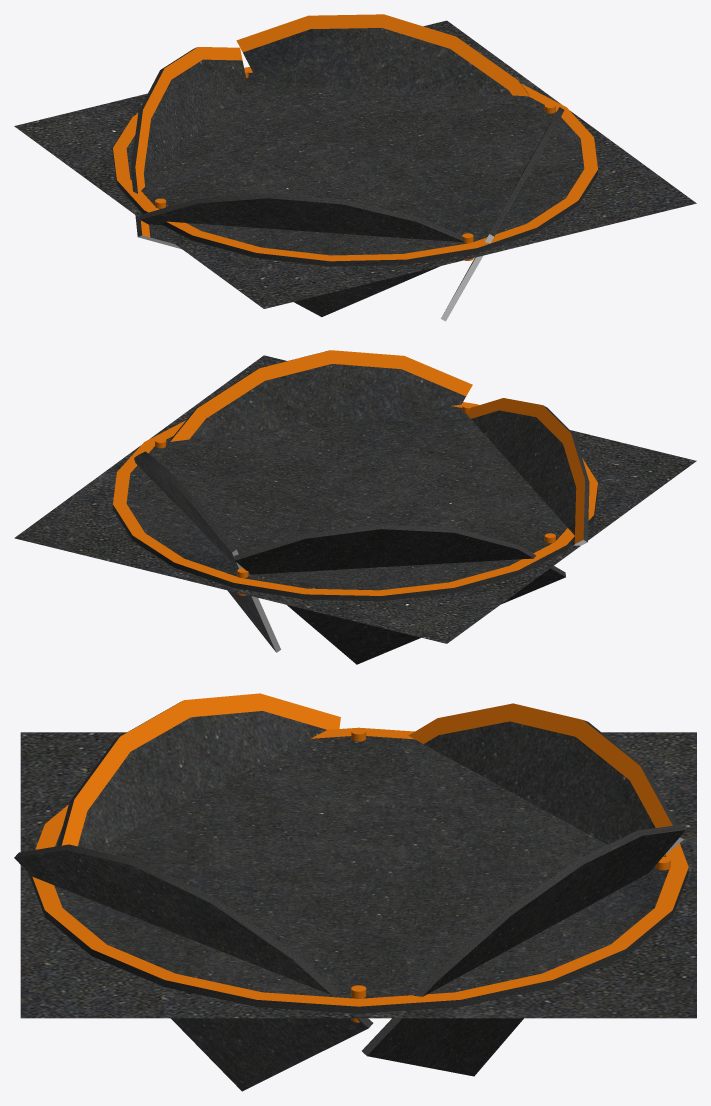
The model's file is wana cover.fbx.
The picture shows the model from 3 angles, top to bottom: view 1: azimuth 30°, elevation 25°; view 2: azimuth 150°, elevation 25°; view 3: azimuth 270°, elevation 25°; orthographic projection. The views are drawn at different scales.
Visible parts, largest first — view 1: cover, hole_plate, borken_cover4, borken_cover3, borken_cover1, borken_cover2; view 2: cover, hole_plate, borken_cover2, borken_cover1, borken_cover3, borken_cover4; view 3: cover, hole_plate, borken_cover2, borken_cover3, borken_cover1, borken_cover4.
Part boxes in pixels (box(x1,y1,x2,y2)): cover: box(113, 67, 597, 266); hole_plate: box(14, 20, 696, 308); borken_cover4: box(236, 14, 529, 96); borken_cover3: box(140, 193, 463, 316); borken_cover1: box(130, 47, 246, 249); borken_cover2: box(441, 107, 564, 321); cover: box(113, 402, 597, 601); hole_plate: box(14, 355, 696, 643); borken_cover2: box(170, 350, 472, 441); borken_cover1: box(234, 524, 565, 664); borken_cover3: box(466, 398, 589, 545); borken_cover4: box(134, 451, 280, 652); cover: box(28, 727, 688, 1022); hole_plate: box(20, 732, 696, 1018); borken_cover2: box(14, 844, 373, 1091); borken_cover3: box(57, 693, 340, 849); borken_cover1: box(408, 703, 684, 855); borken_cover4: box(362, 825, 685, 1076).
Size of the model in its own units: 102 by 44.47 by 101.
Materials: 4 (2 with a texture image).
